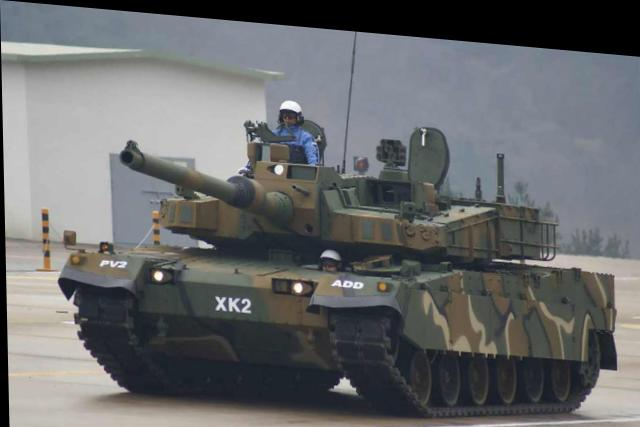other: (262, 82, 322, 166)
tank: (65, 125, 612, 423)
